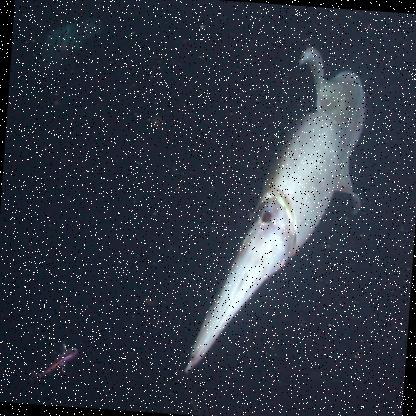colossal_squid: (167, 35, 384, 388)
